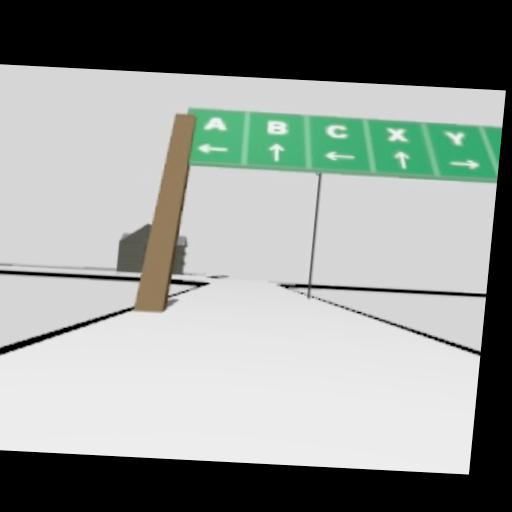A: (203, 114, 228, 131)
B: (265, 117, 290, 135)
C: (326, 122, 348, 138)
Left: (197, 142, 229, 155), (322, 149, 356, 161)
Right: (448, 158, 480, 170)
Straight: (266, 143, 286, 161), (392, 150, 410, 169)
X: (385, 127, 407, 141)
Y: (443, 130, 465, 146)
